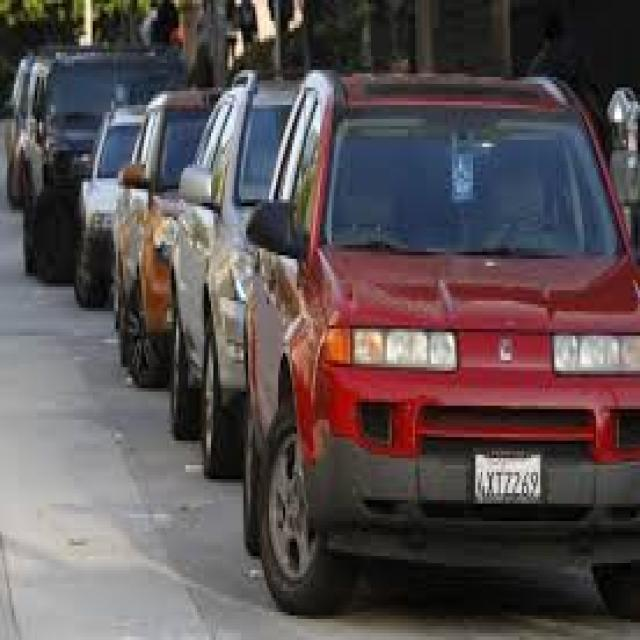symbol_of_access: (453, 158, 473, 196)
